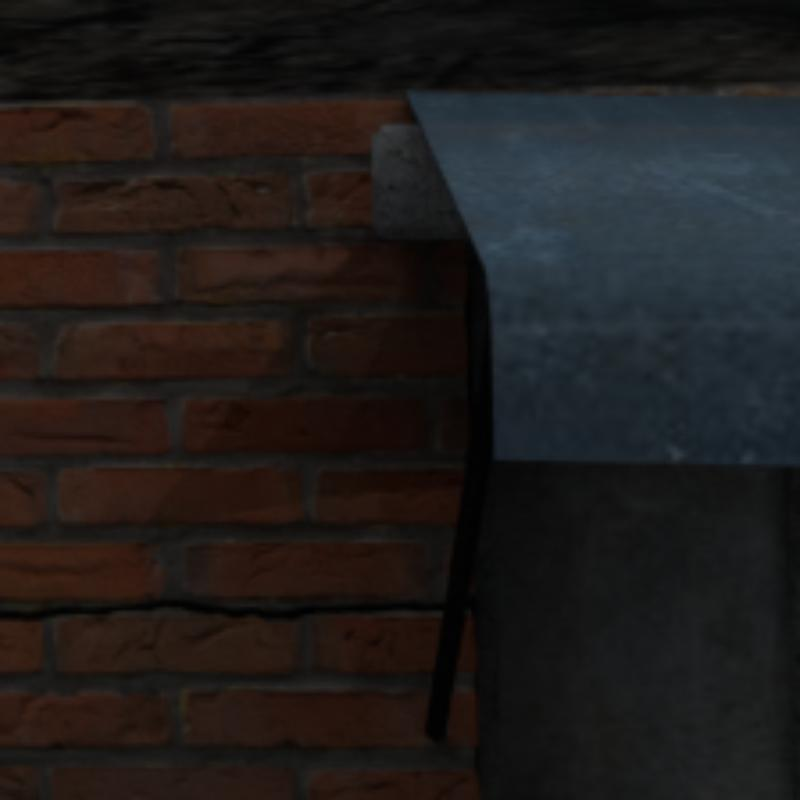pothole: (0, 600, 443, 618)
